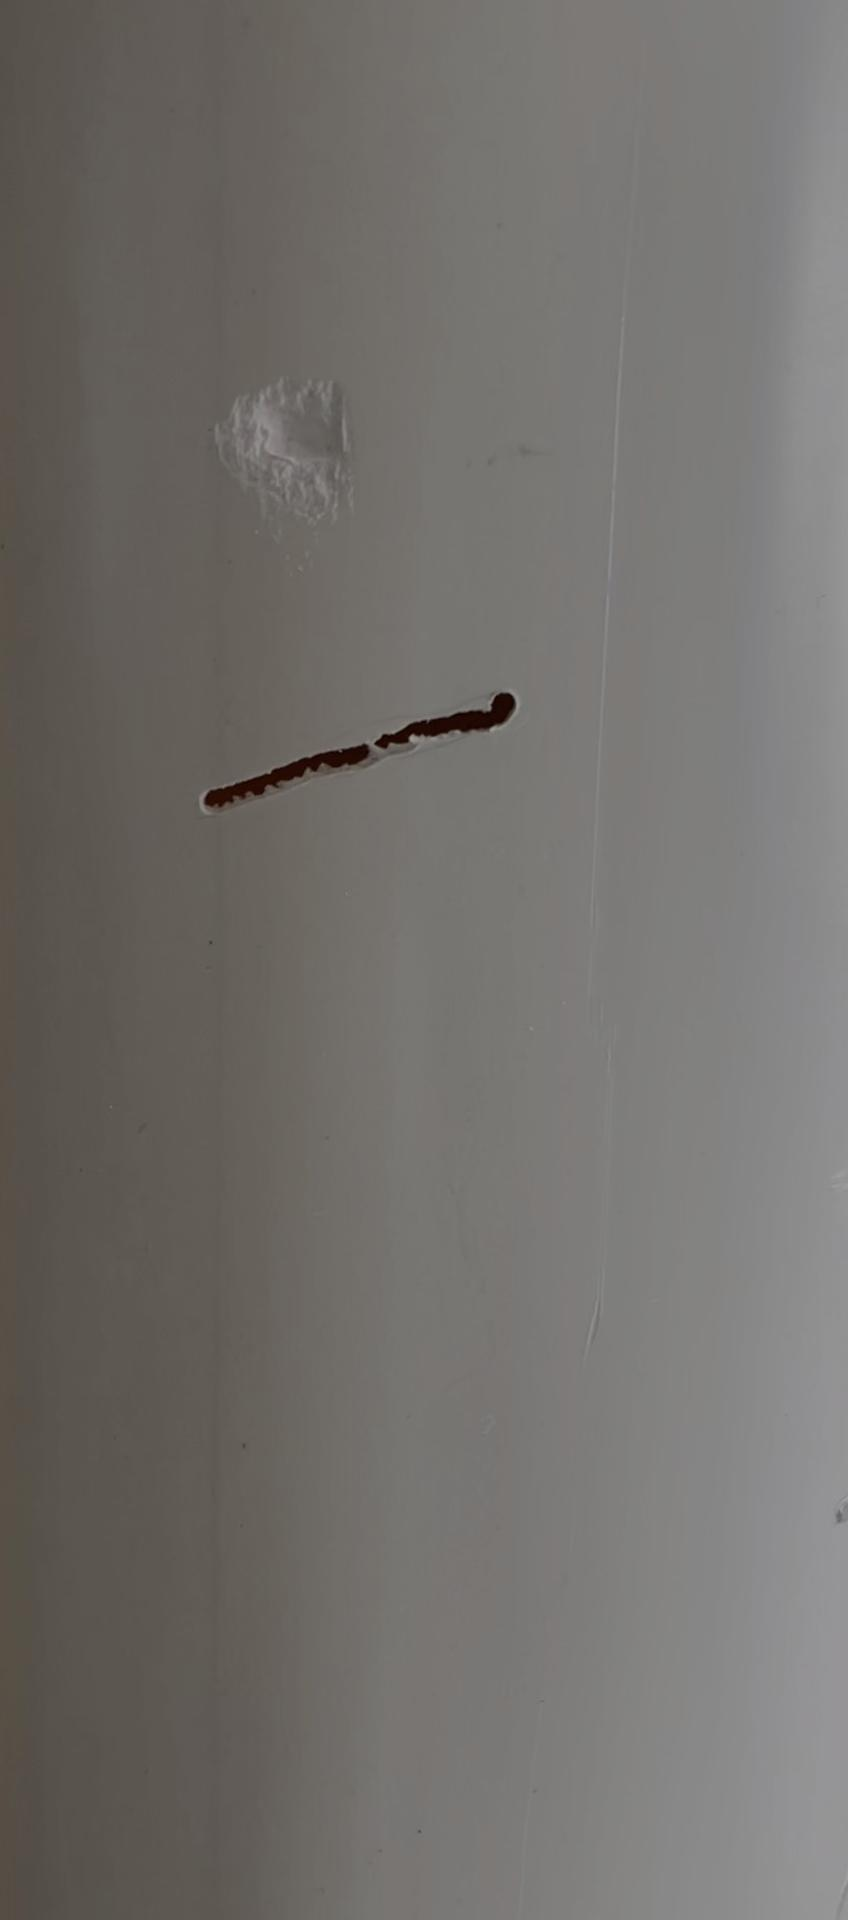fengxi: (174, 649, 549, 831)
sunshang: (206, 372, 372, 538)
